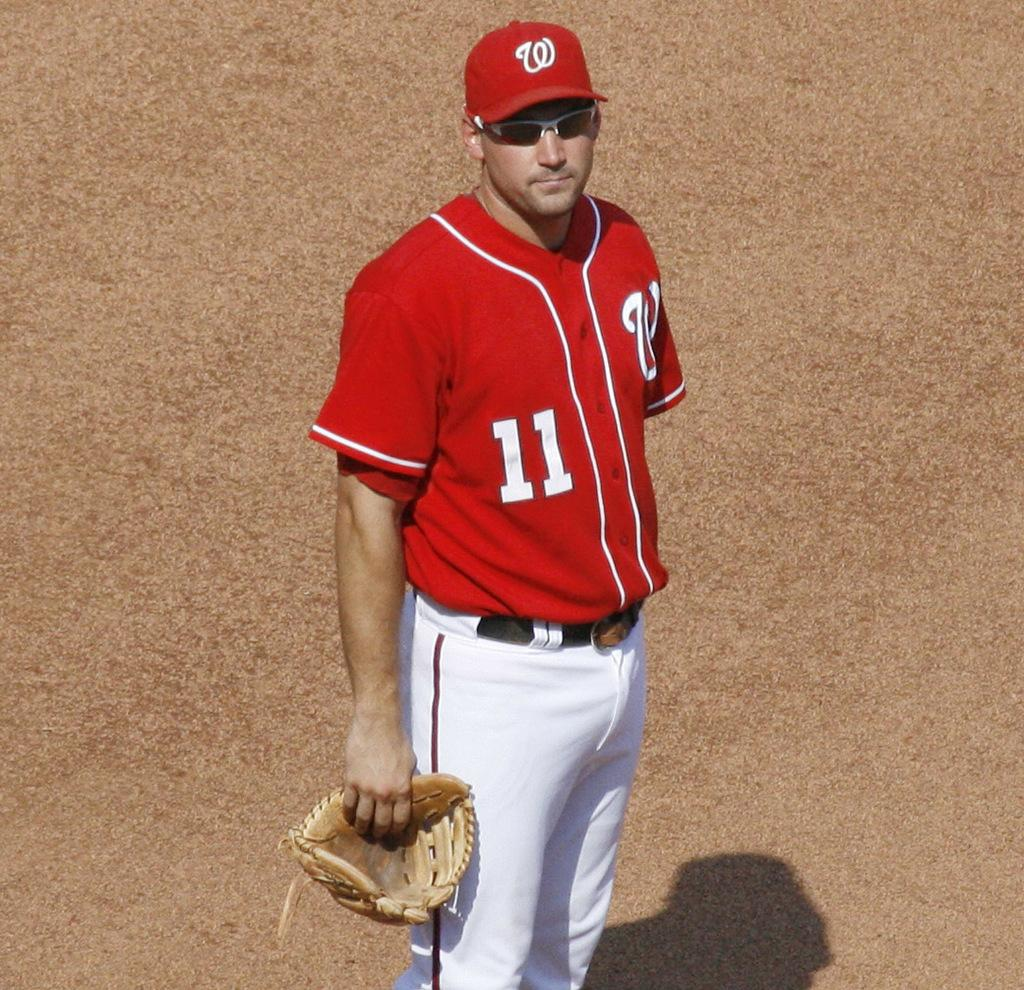Hat: (464, 18, 607, 120)
